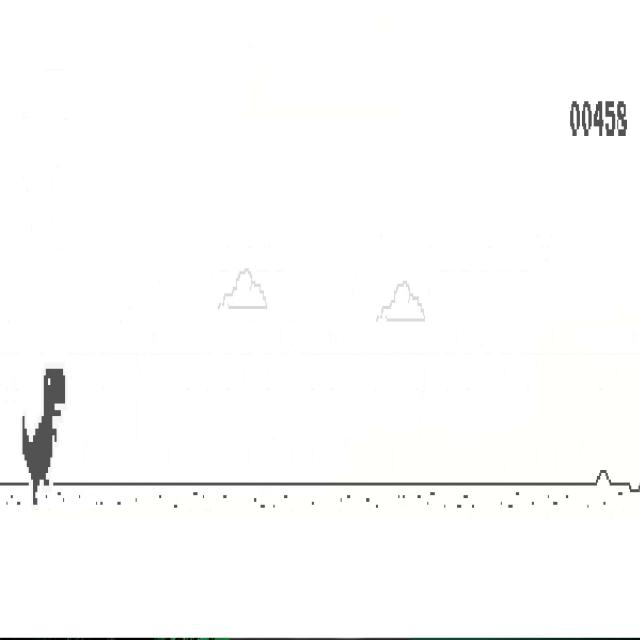dino: (22, 368, 66, 506)
